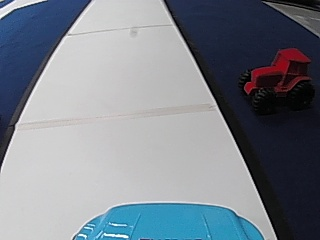tractor: (236, 46, 316, 115)
